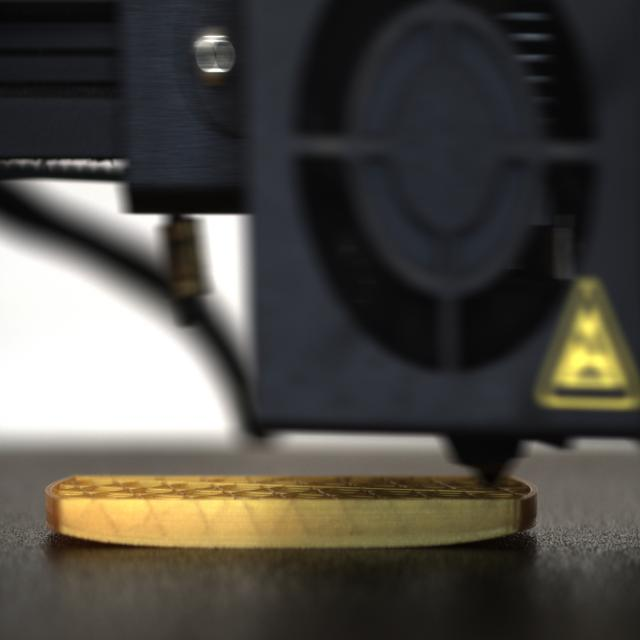Warping: (452, 517, 540, 550), (47, 520, 117, 552)
